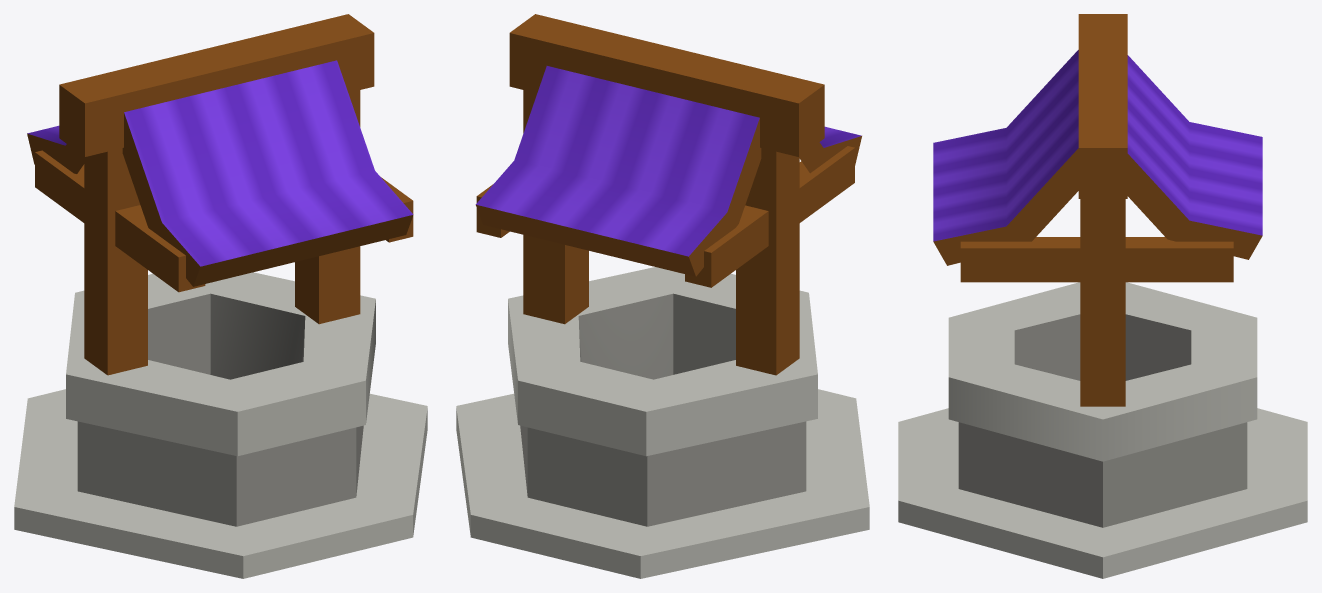
File: townwell.fbx
3 renders of one model, left to right at view 1: azimuth 30°, elevation 25°; view 2: azimuth 150°, elevation 25°; view 3: azimuth 270°, elevation 25°, orthographic. The views are drawn at different scales.
Parts seen in each view (by area): view 1: polySurface1; view 2: polySurface1; view 3: polySurface1.
Boxes of the visible parts, x1,y1,x2,y2 form: polySurface1: (14, 14, 427, 578); polySurface1: (456, 14, 869, 578); polySurface1: (898, 14, 1307, 578).
Bounding box in the file's own units: 80.59 × 78.48 × 72.74.
1 material, 1 textured.
